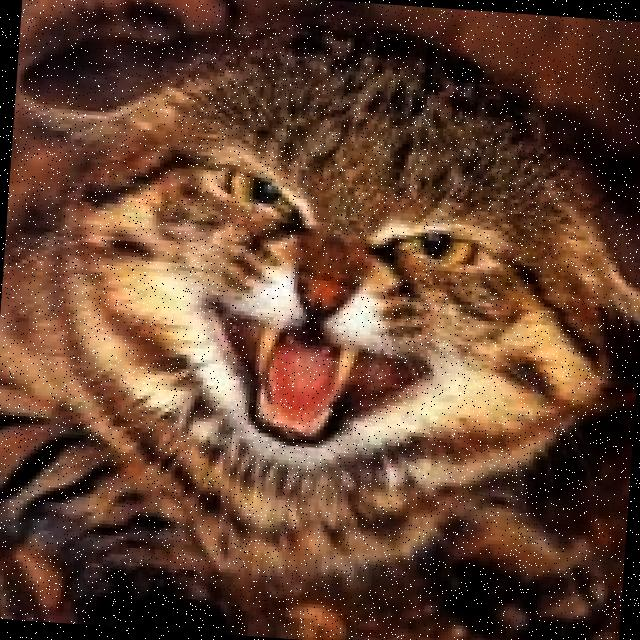Angry: (120, 102, 534, 501)
